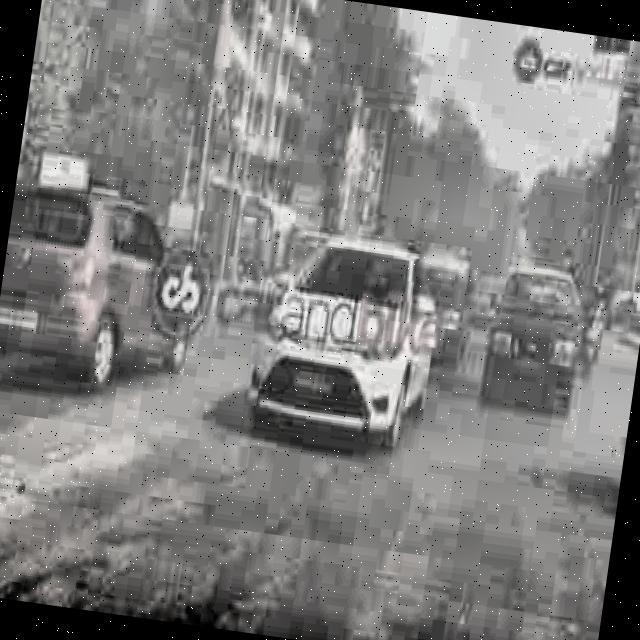license_plate: (288, 370, 341, 406), (0, 309, 41, 336)
